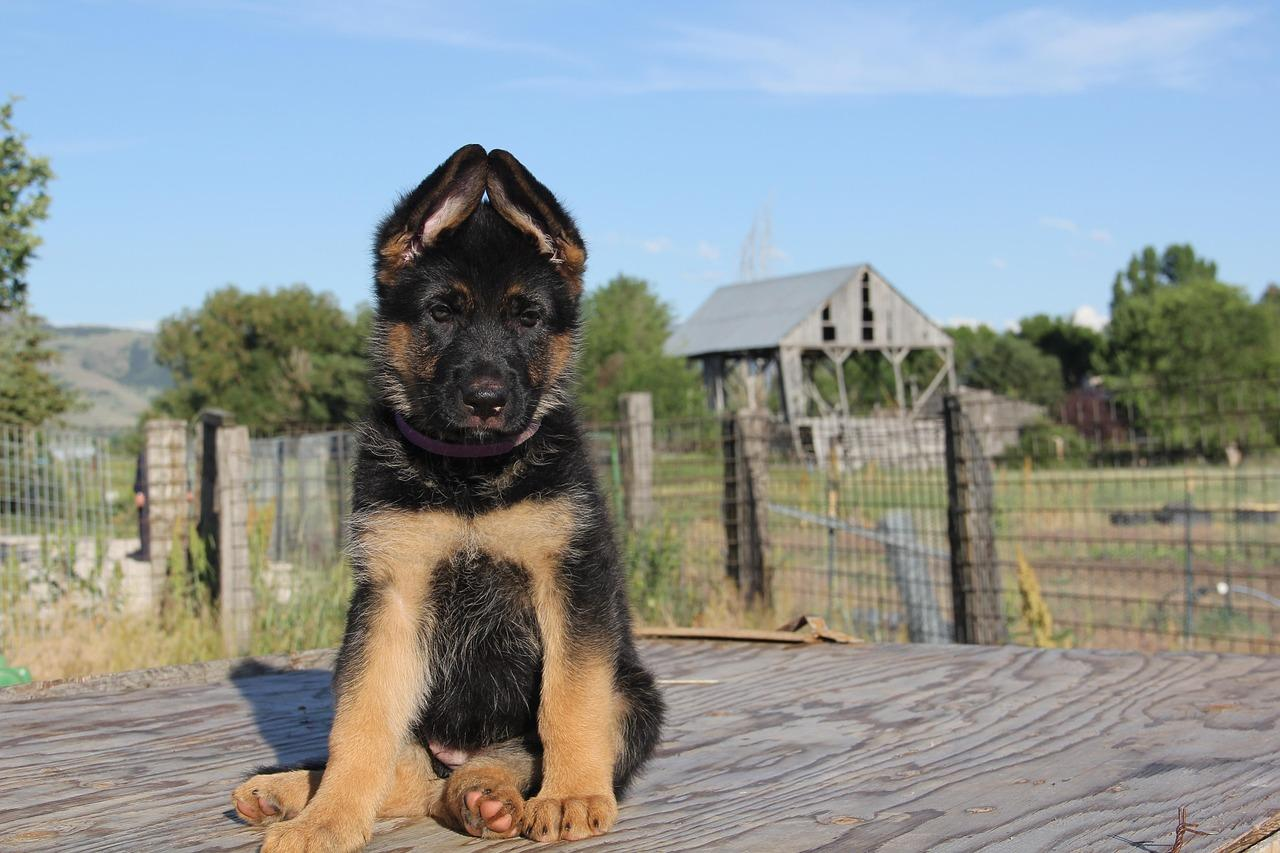german_shepherd: (359, 147, 597, 462)
